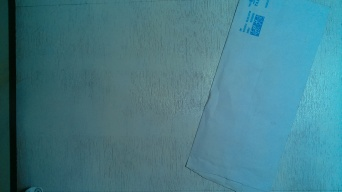l: (189, 1, 326, 190)
